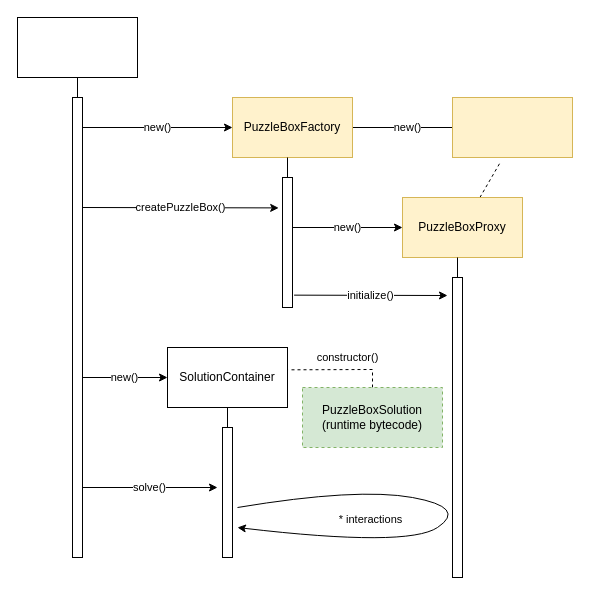
The diagram is 590 pixels wide and 595 high, and some of its shapes have lost their labels. Each missing label, with the centre of its shape:
"PuzzleBox (logic contract)" belongs at pixel 512 127.
"Runner/Fixture" belongs at pixel 77 47.
